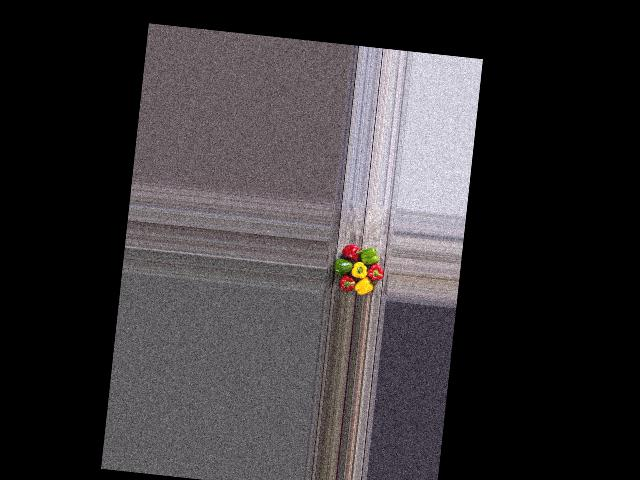bell_pepper: (338, 274, 359, 296)
